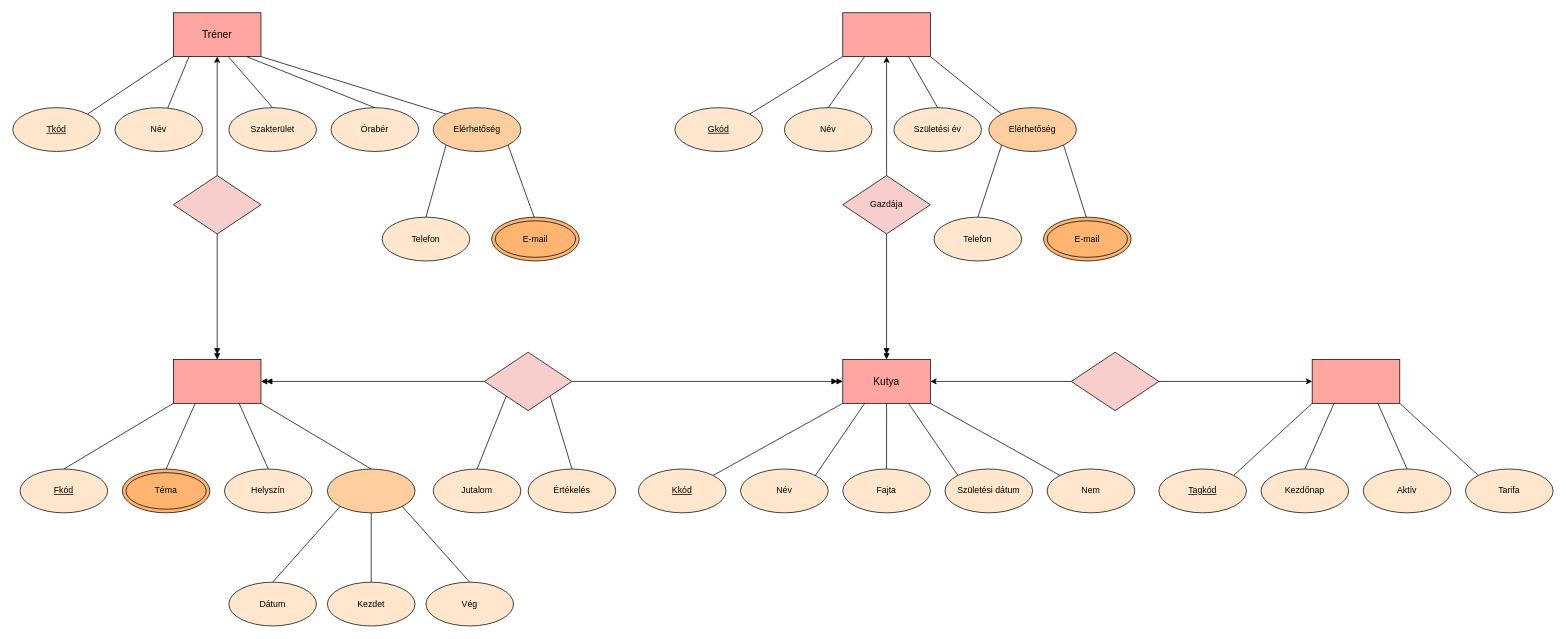
Image size: 1566x639. Some labels were removed from this diagram. The shapes that lost their labels are listed below. From the top down, each one's centre as x and y in pixels, then its label:
At [886,34]: "Gazdi".
At [217,204]: "Foglalkozás- vezető".
At [217,381]: "Foglalkozás".
At [528,381]: "Részvétel".
At [1115,381]: "Tagsága".
At [1355,381]: "Tagság".
At [371,490]: "Időpont".
